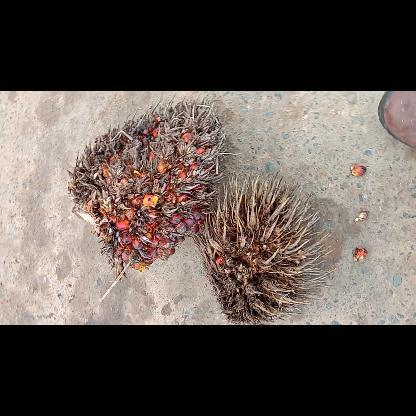Janjang kosong: (193, 172, 335, 324)
Terlalu masak: (67, 96, 227, 298)
